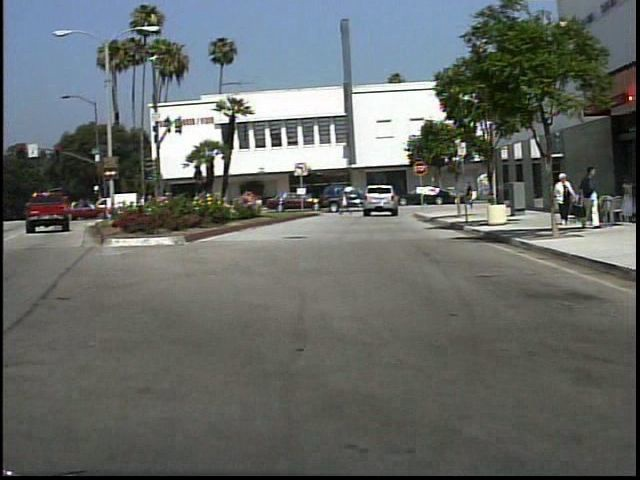person: (579, 163, 604, 232), (553, 173, 576, 227), (616, 174, 639, 223), (338, 186, 354, 218), (466, 180, 480, 214)
